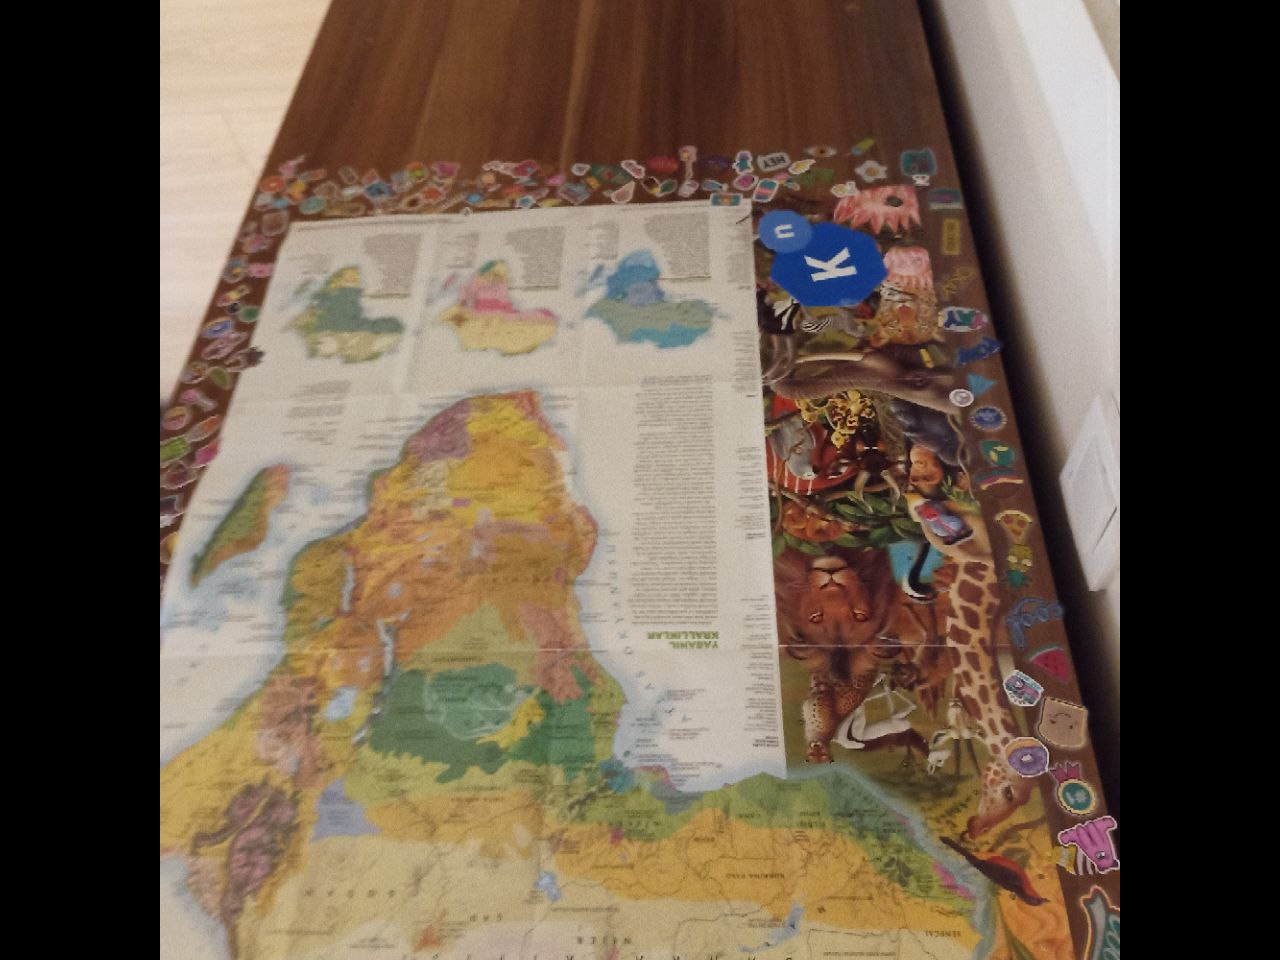knative: (757, 210, 882, 305)
